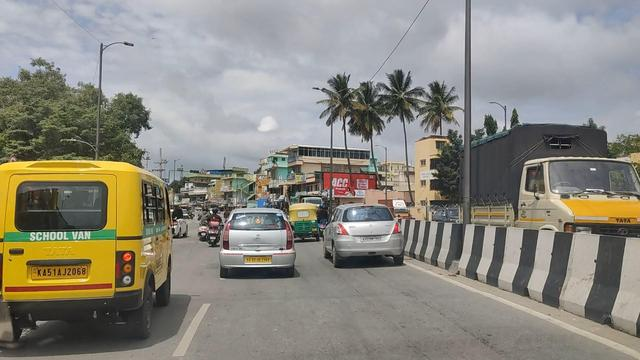LMV: (0, 146, 186, 352), (217, 198, 298, 284), (322, 193, 410, 272)
